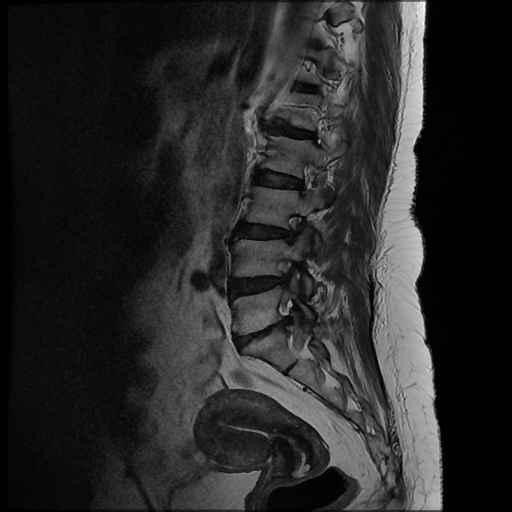RFS0: (286, 155, 324, 203)
RFS3: (274, 208, 310, 251)
